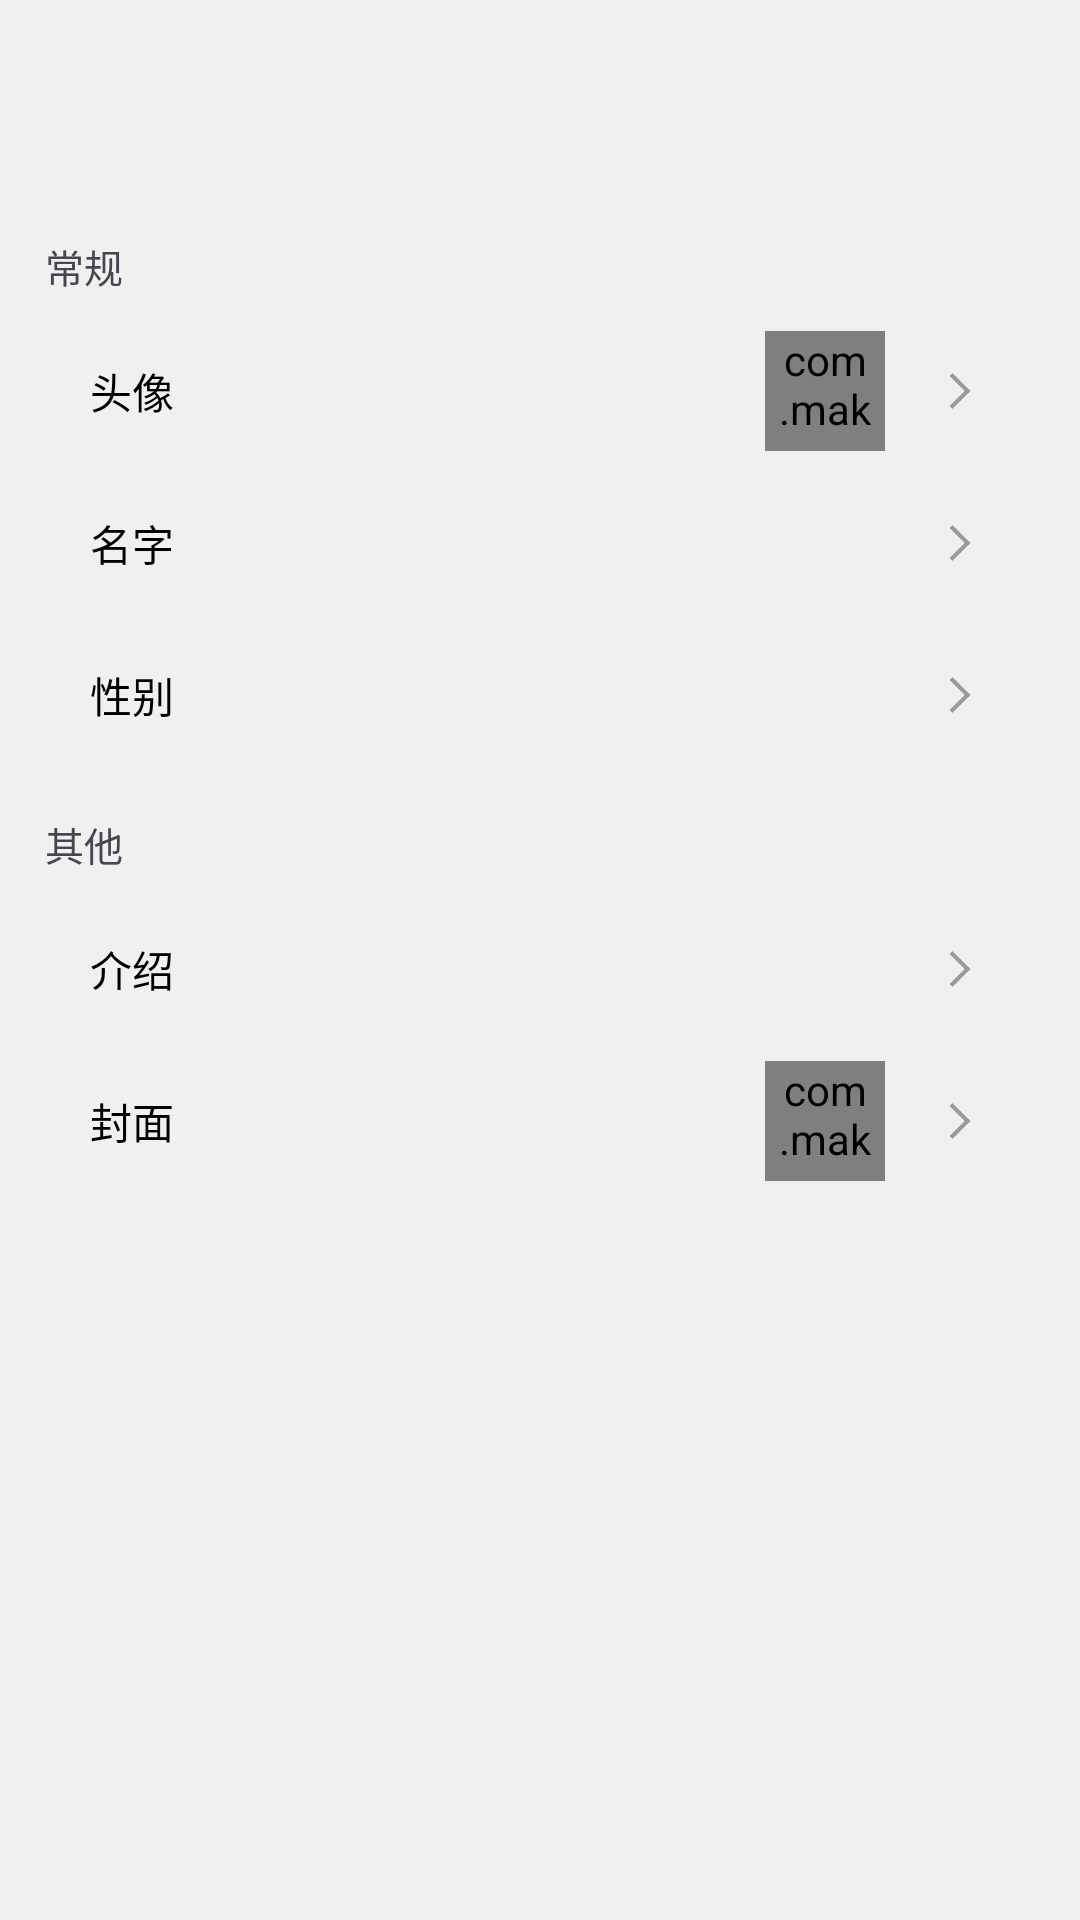

Icons on this 1080*1920 Android screen, each with the point to tap as (x,y):
arrow right: (960,391), (960,543), (960,695), (960,969), (960,1121)
